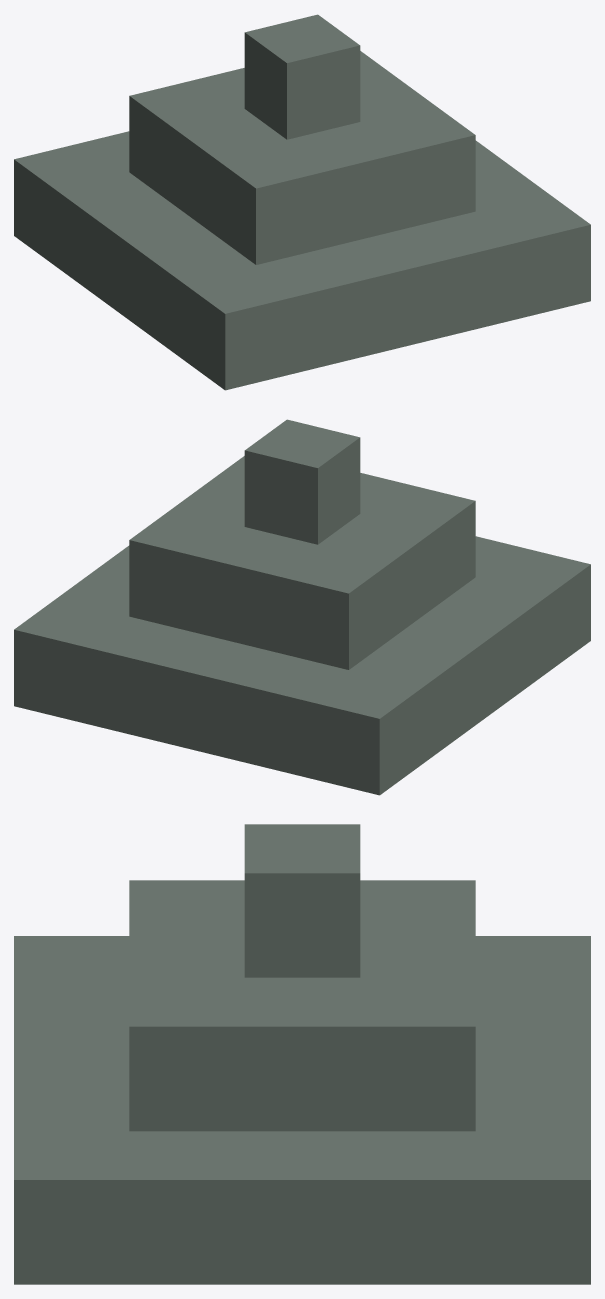
The model's file is roca2.fbx.
3 renders of one model, top to bottom at view 1: azimuth 30°, elevation 25°; view 2: azimuth 150°, elevation 25°; view 3: azimuth 270°, elevation 25°, orthographic. The views are drawn at different scales.
Visible parts, largest first — view 1: Roca2; view 2: Roca2; view 3: Roca2.
Part boxes in pixels (x1=…): Roca2: x1=14, y1=14, x2=590, y2=390; Roca2: x1=14, y1=419, x2=590, y2=795; Roca2: x1=14, y1=824, x2=590, y2=1284.
Size of the model in its own units: 1 by 0.6 by 1.
Materials: 1 (1 with a texture image).
